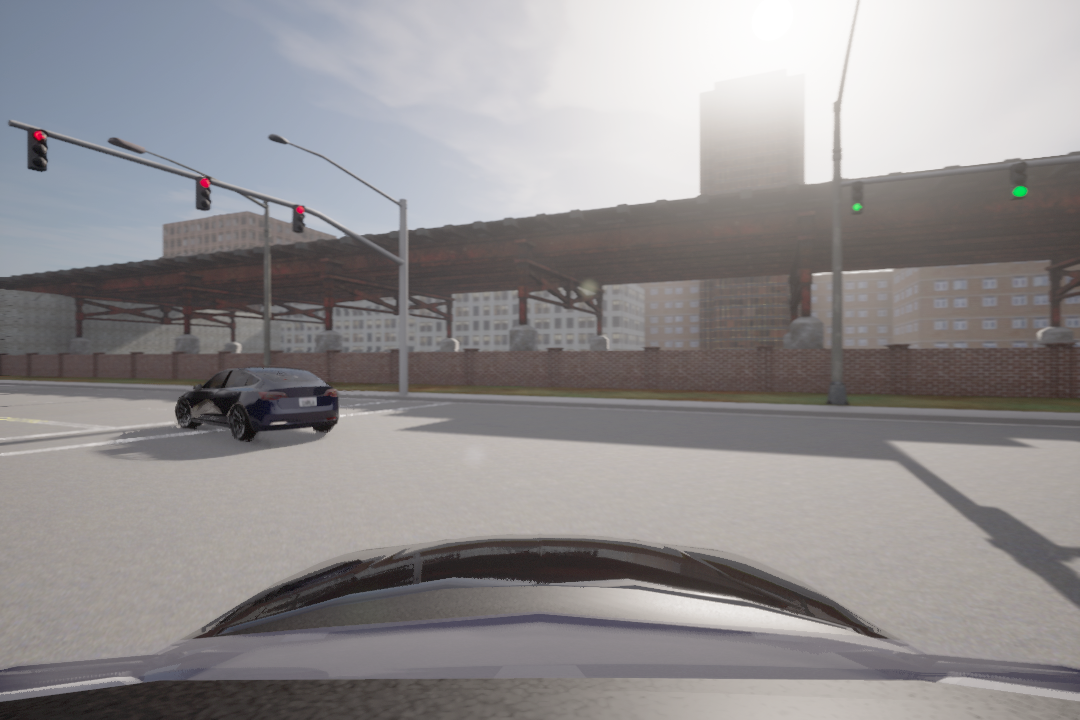TrafficLight: (25, 127, 49, 172), (1007, 162, 1032, 200), (286, 203, 307, 234), (194, 175, 211, 211), (849, 181, 866, 215)
